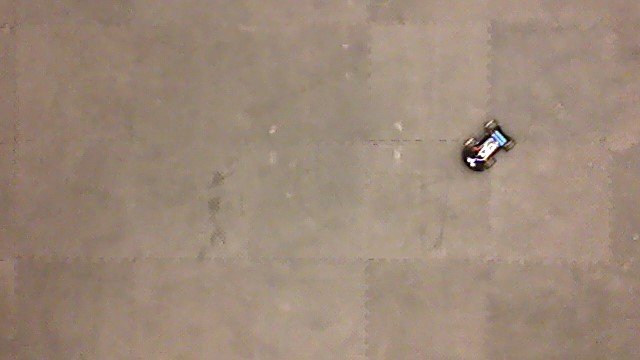Agent: (460, 117, 518, 174)
